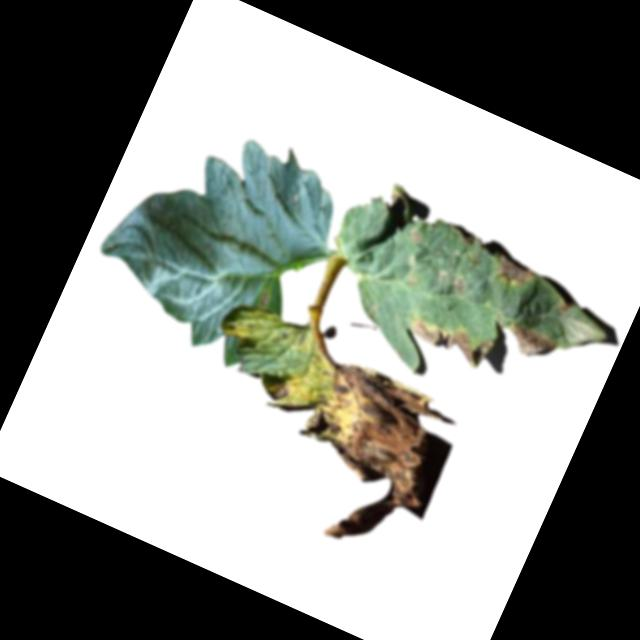Early_blight: (261, 349, 463, 565), (404, 307, 495, 374), (503, 319, 557, 364), (489, 250, 540, 292), (263, 374, 292, 406), (407, 223, 429, 247), (551, 298, 574, 320), (257, 286, 273, 307), (454, 279, 467, 295)
